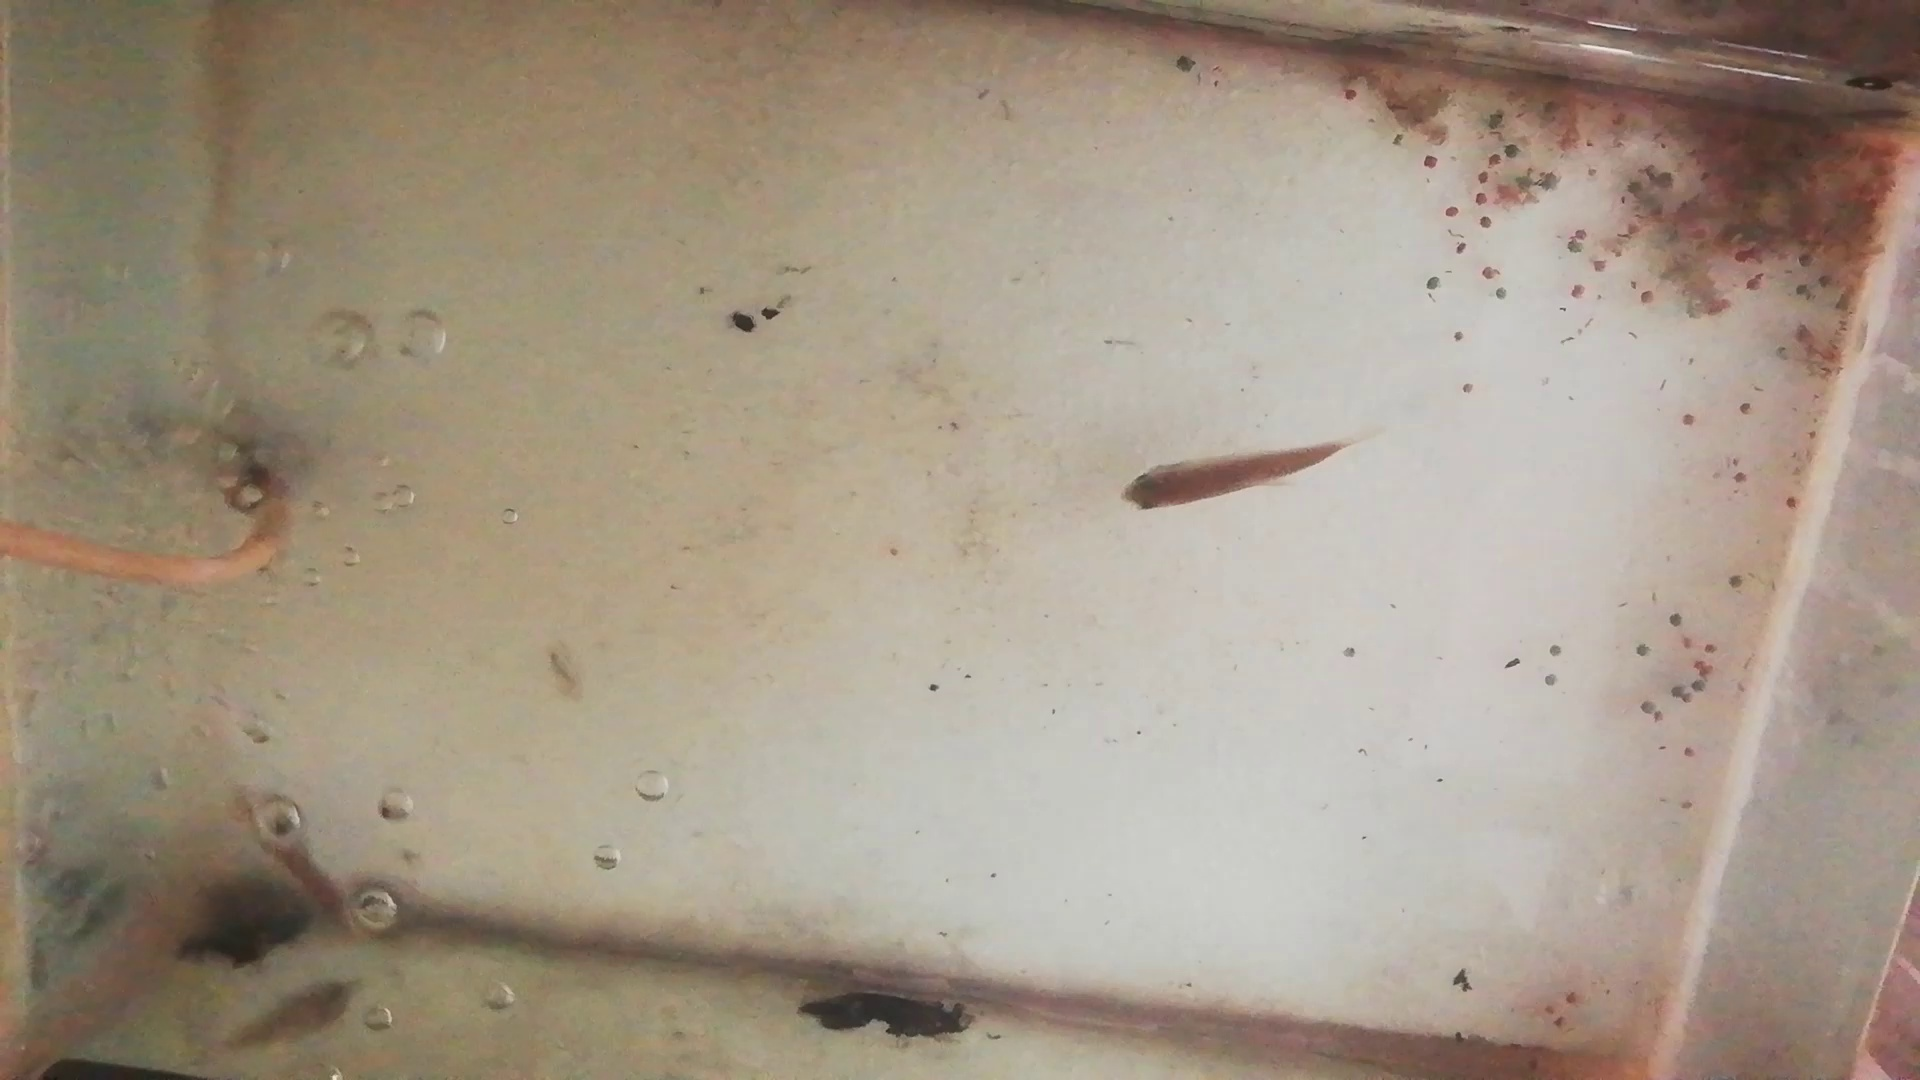fish: (1121, 439, 1342, 514), (237, 793, 359, 928)
